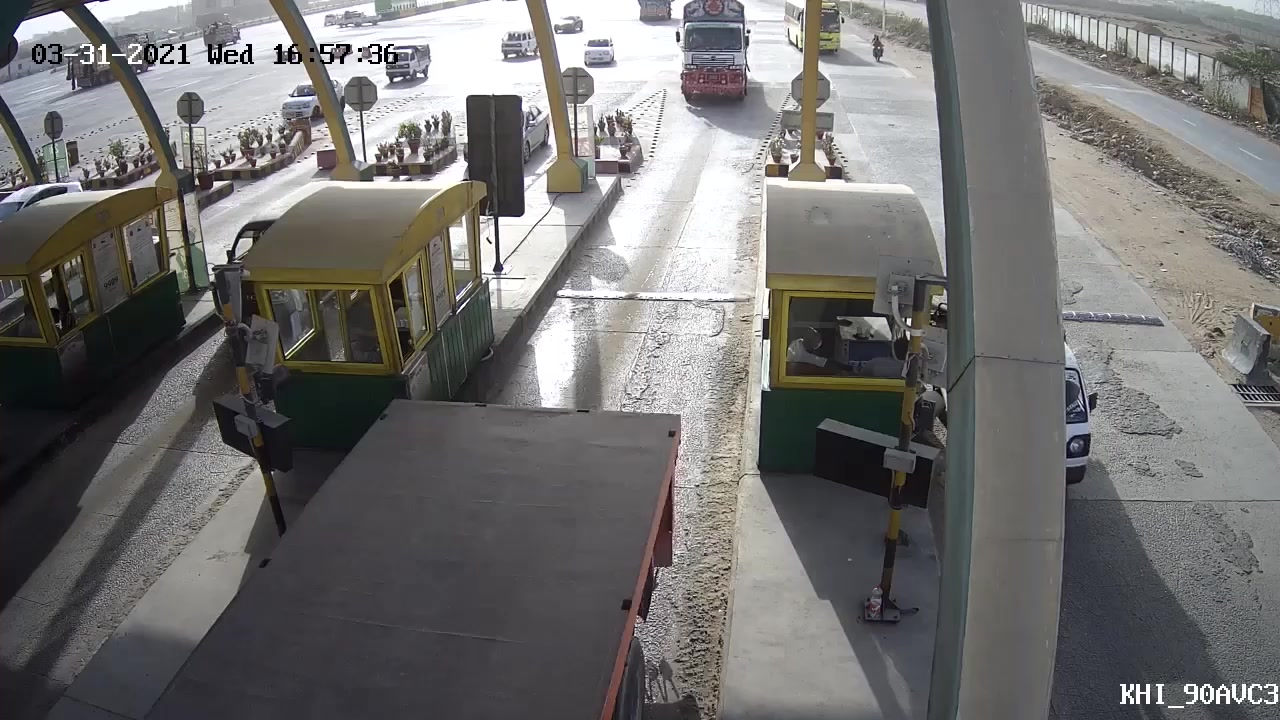F5: (663, 1, 764, 134)
